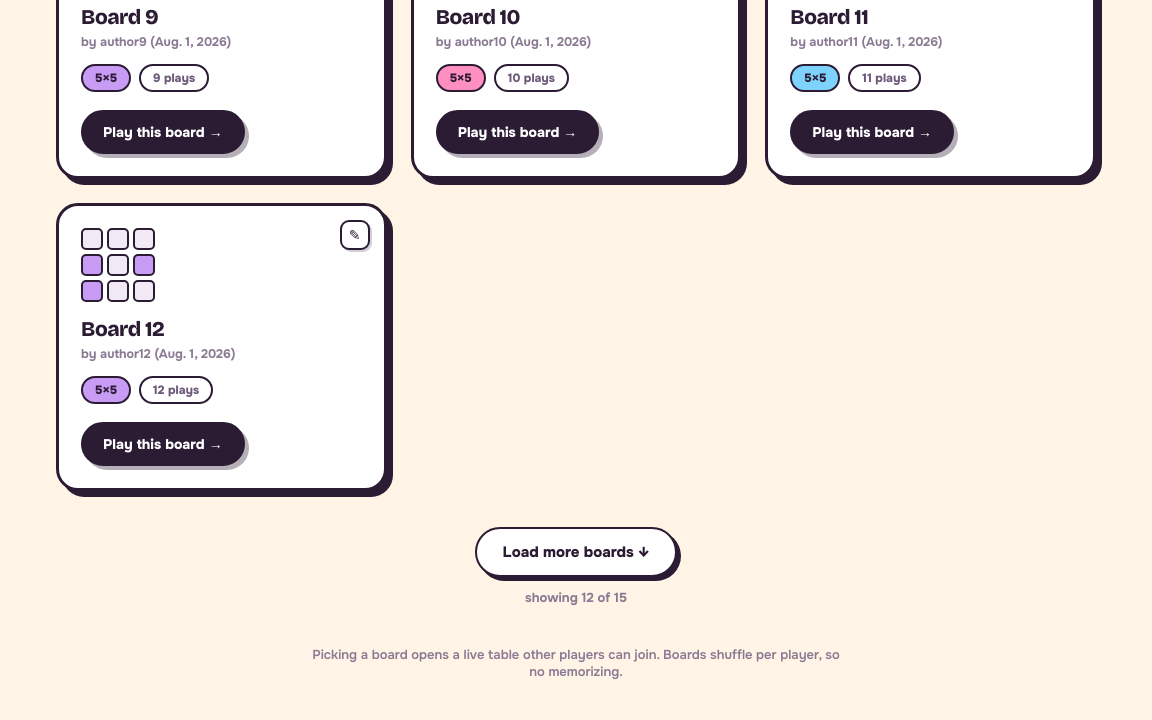
it: board archive › load more appends the next page and updates the count
(page scrolled)
expect the text "showing 12 of 15" is shown: met, box x1=525 y1=590 x2=627 y2=606
expect the text "Board 13" is not shown: met
Click the button "Load more boards ↓".
click(576, 552)  # box x1=474 y1=528 x2=677 y2=578
(page scrolled)
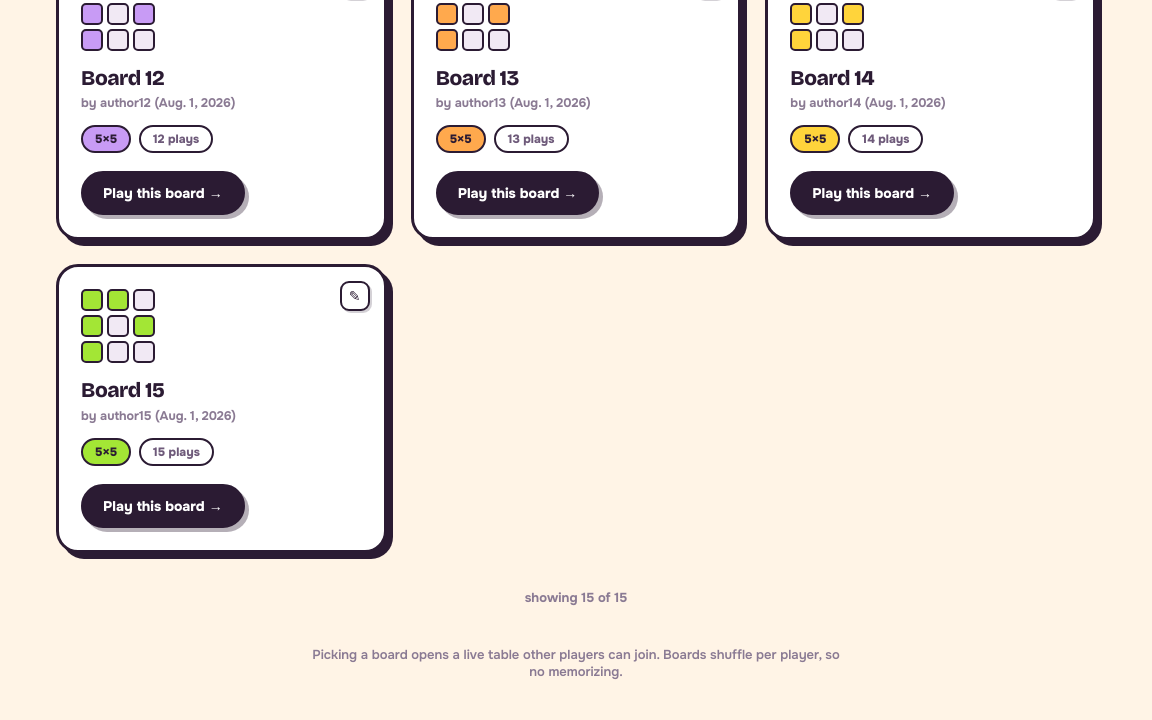
expect the heading "Board 13" is shown: met, box x1=436 y1=65 x2=519 y2=91
expect the text "showing 15 of 15" is shown: met, box x1=525 y1=589 x2=627 y2=606
expect the button "Load more boards" is gone: met
